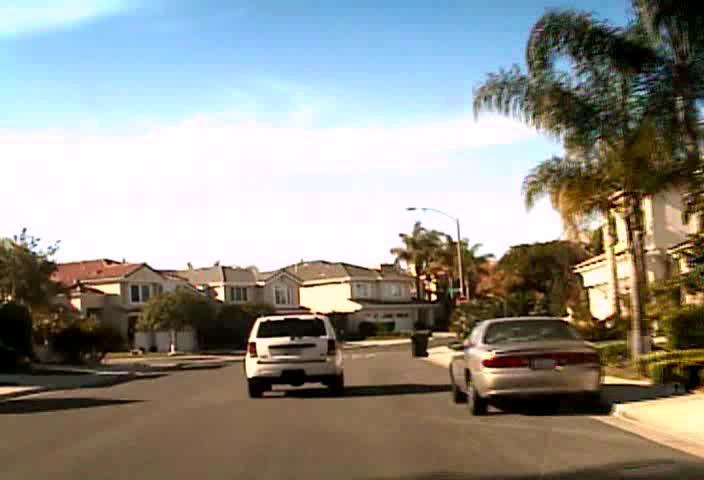stop: (455, 295, 469, 308)
